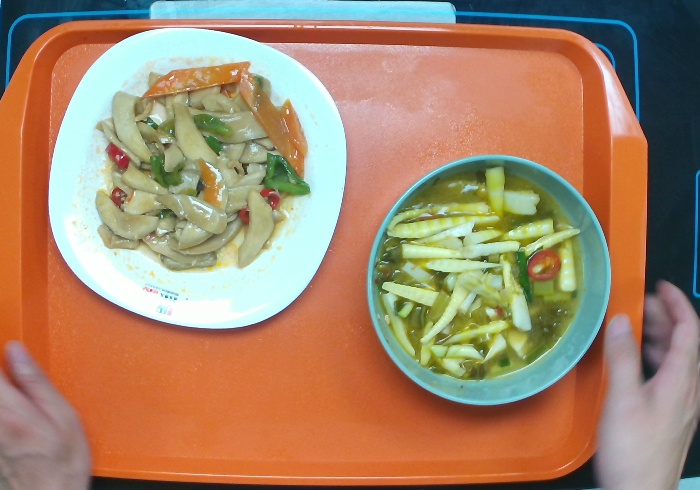ZNLD-Qing_Hua_Yuan_Wan: (363, 152, 615, 406)
ZNLD-Yuan_Jiao_Pan: (45, 25, 348, 331)
